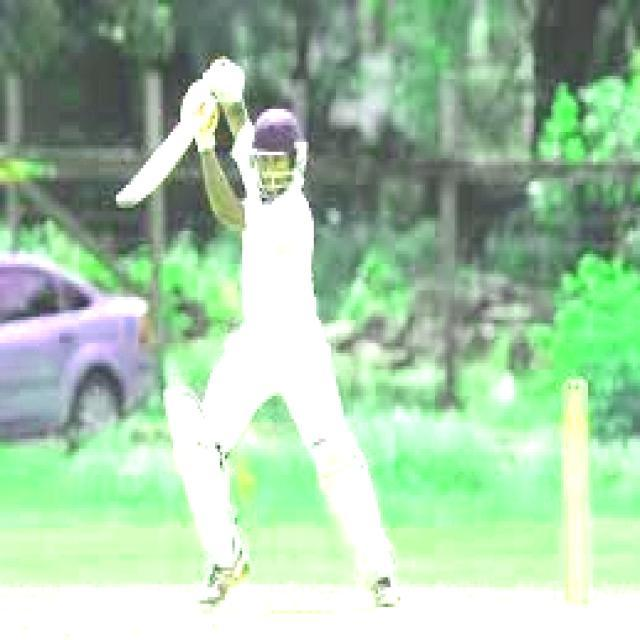bat: (107, 113, 197, 222)
toe: (110, 191, 139, 212)
